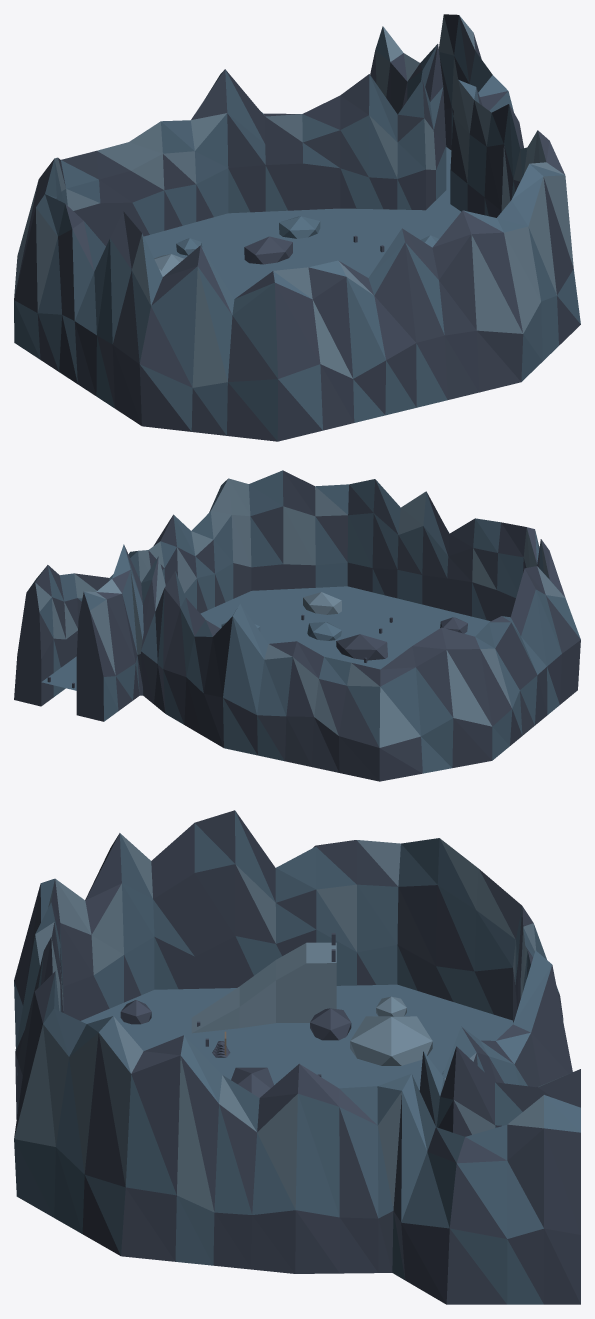
The model's file is listening_flats_collision.glb.
3 views of the same model, one above another, from view 1: azimuth 30°, elevation 25°; view 2: azimuth 150°, elevation 25°; view 3: azimuth 270°, elevation 25° (orthographic). The views are drawn at different scales.
Visible parts, largest first — view 1: Perimeter solid Listening Flats cliffs, Flats solid Floor, Flats solid Ice fin.001, Flats solid Ice fin; view 2: Perimeter solid Listening Flats cliffs, Flats solid Floor, Flats solid Ice fin.002, Flats solid Ice fin.006, Flats solid Ice fin.003; view 3: Perimeter solid Listening Flats cliffs, Flats solid Floor, Flats solid Charon overlook, Flats solid Ice fin.004, Flats solid Ice fin.005, Flats solid Ice fin.002.
Part boxes in pixels (x1,y1,x2,y2): Perimeter solid Listening Flats cliffs: (14, 14, 580, 441); Flats solid Floor: (144, 147, 460, 298); Flats solid Ice fin.001: (244, 236, 292, 264); Flats solid Ice fin: (279, 216, 320, 238); Perimeter solid Listening Flats cliffs: (14, 470, 580, 781); Flats solid Floor: (41, 586, 490, 690); Flats solid Ice fin.002: (336, 634, 387, 660); Flats solid Ice fin.006: (303, 592, 341, 614); Flats solid Ice fin.003: (307, 622, 341, 640); Perimeter solid Listening Flats cliffs: (14, 810, 580, 1304); Flats solid Floor: (81, 984, 513, 1090); Flats solid Charon overlook: (191, 942, 336, 1033); Flats solid Ice fin.004: (350, 1016, 432, 1065); Flats solid Ice fin.005: (310, 1008, 351, 1040); Flats solid Ice fin.002: (231, 1067, 273, 1097).
Bounding box in the file's own units: 119 × 38.43 × 93.31.
